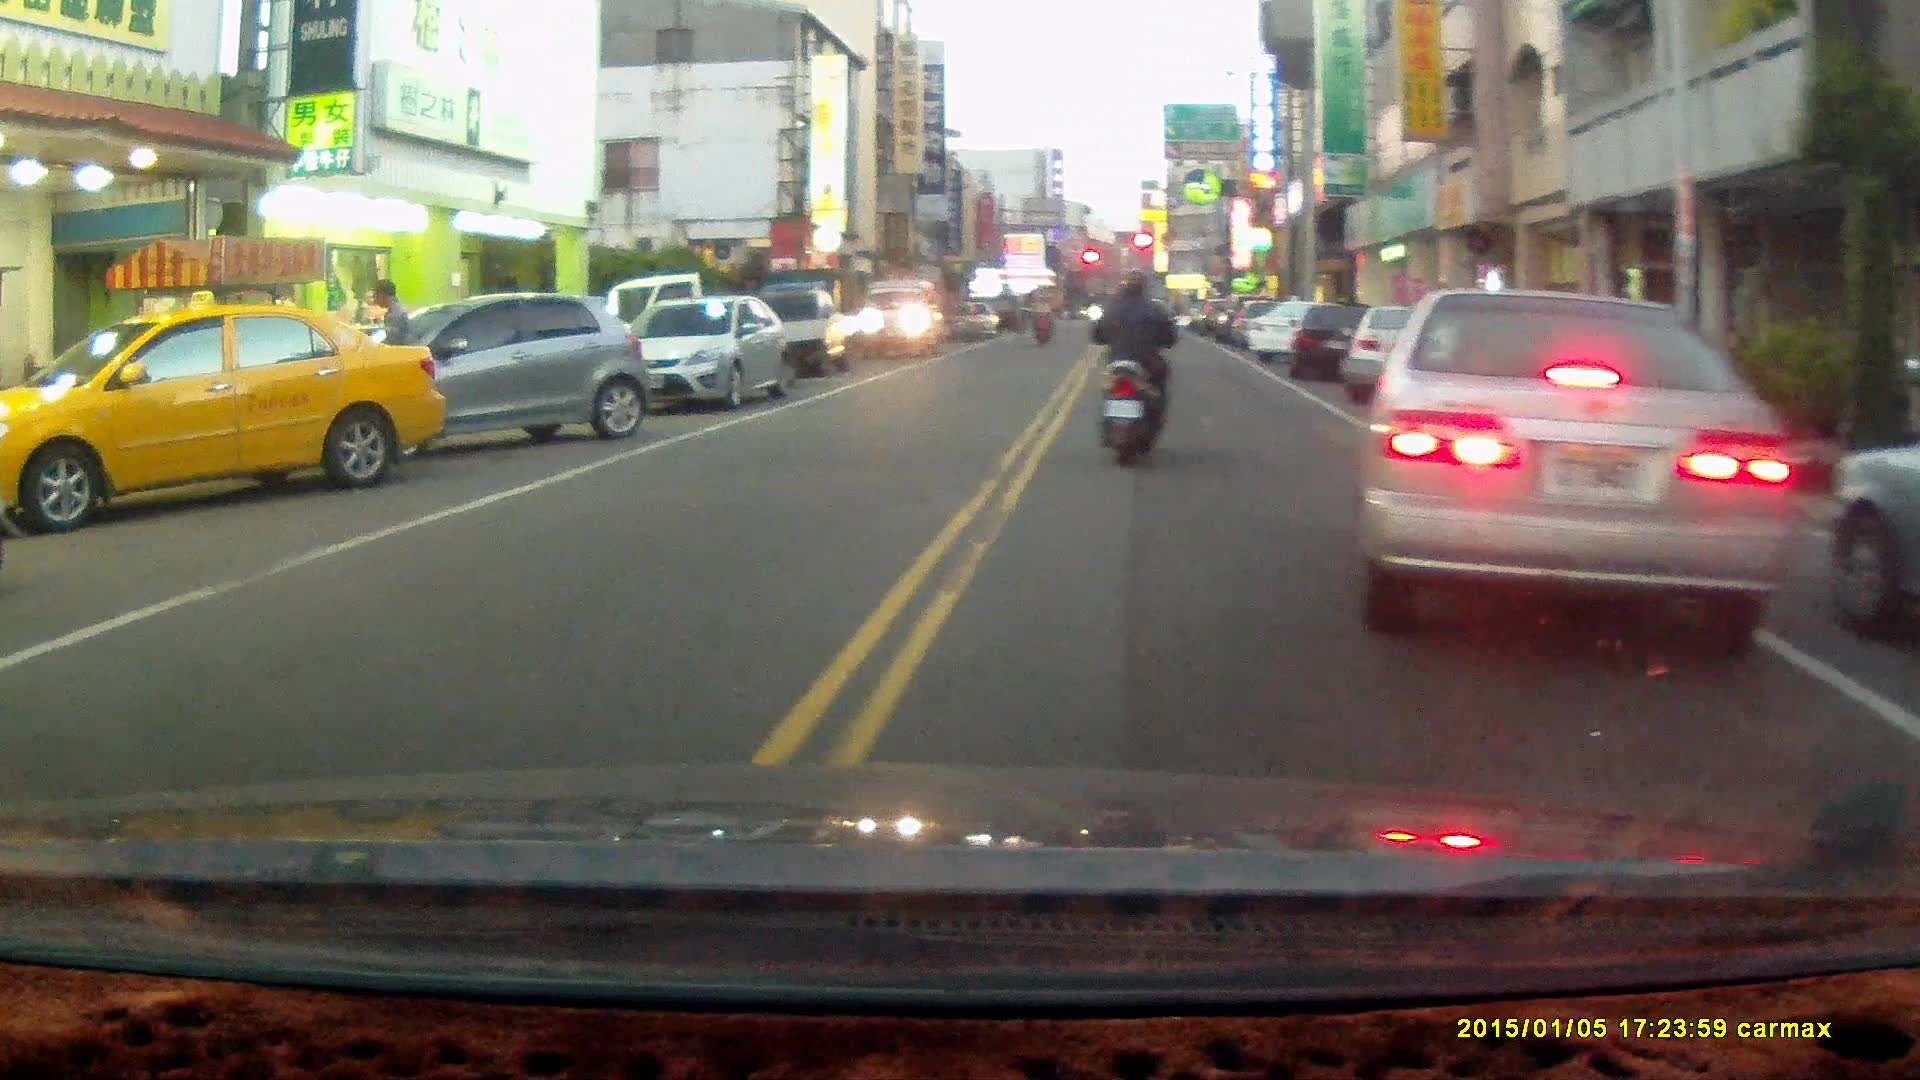pedestrian: (365, 277, 419, 457)
rider: (1080, 266, 1191, 466), (1028, 290, 1054, 342)
vehicle: (1355, 288, 1808, 647), (1, 298, 450, 528), (334, 285, 652, 441), (619, 290, 796, 408), (1826, 447, 1920, 654), (1343, 302, 1484, 401), (737, 283, 864, 378), (861, 278, 947, 352)
